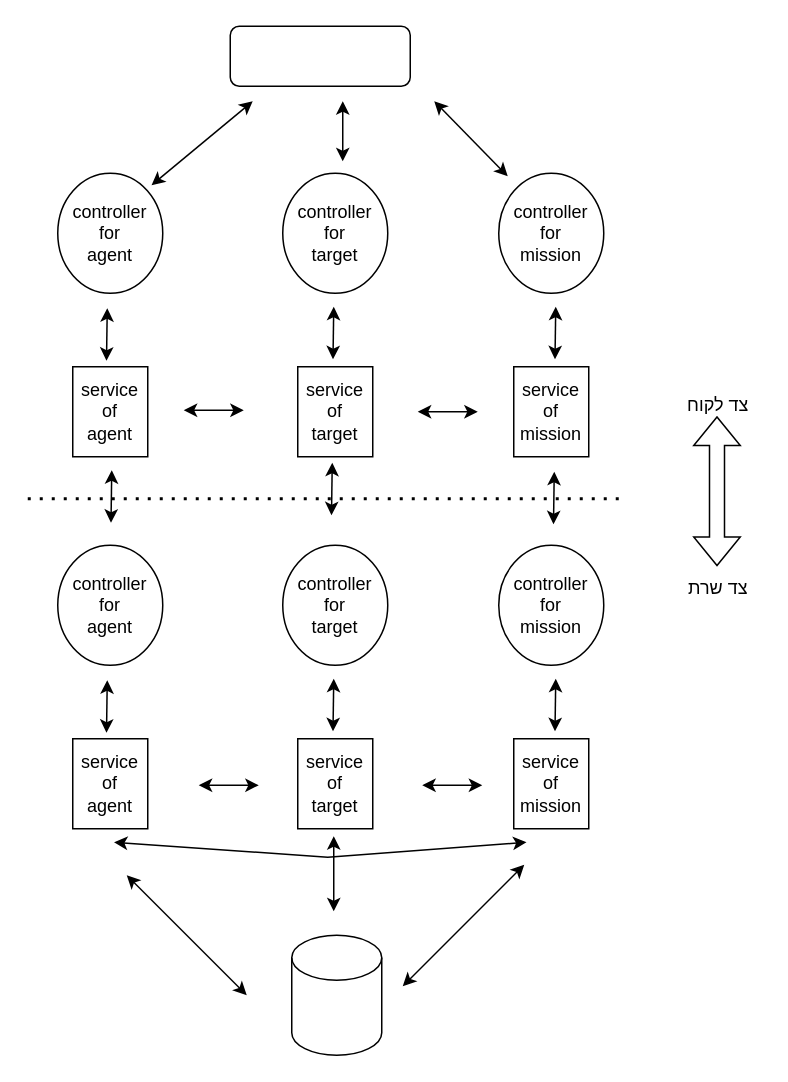
Some shapes in this 788 by 1082 pixel diagram are drawn without their labels. The centre of each missing label's shape, as x and y in pixels:
client: [319,55]
data base: [336,994]
